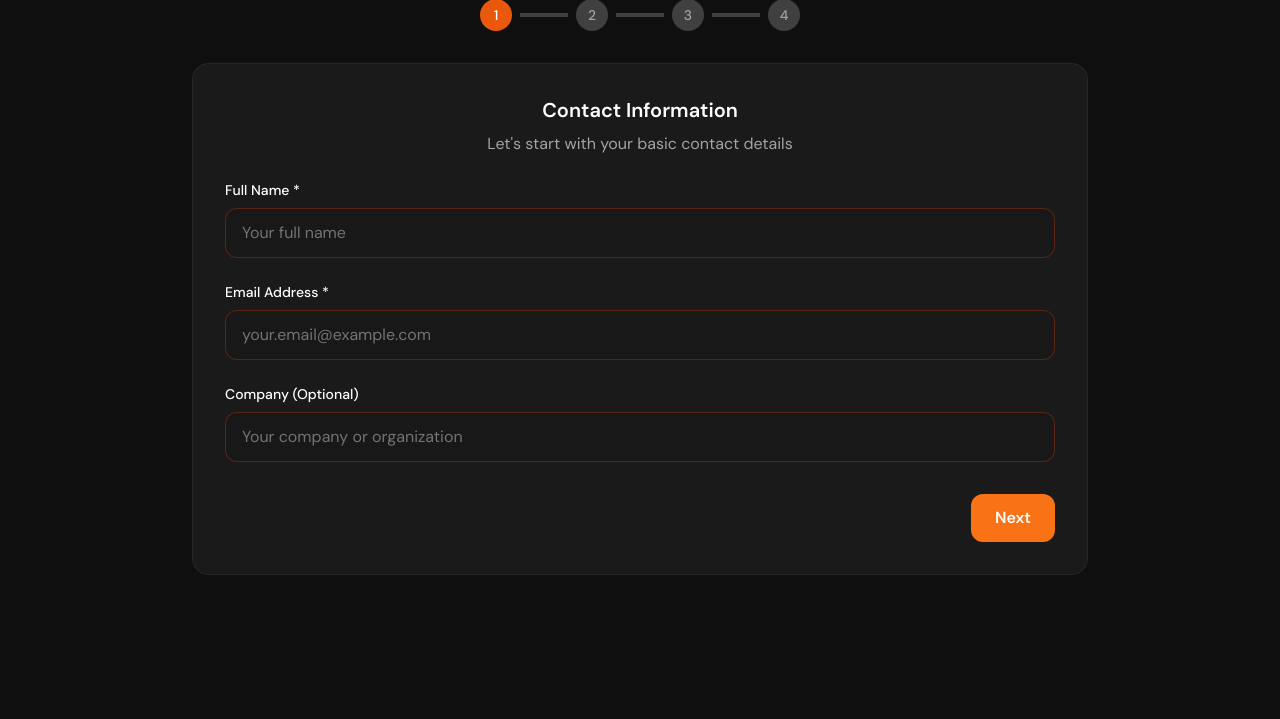
Scenario: ProjectInquiryForm - Simple Tests › allows going back to previous steps
Move to step 2
In the field labelled "Full Name *": (640, 233) [225,208,1055,258], type "John Doe"
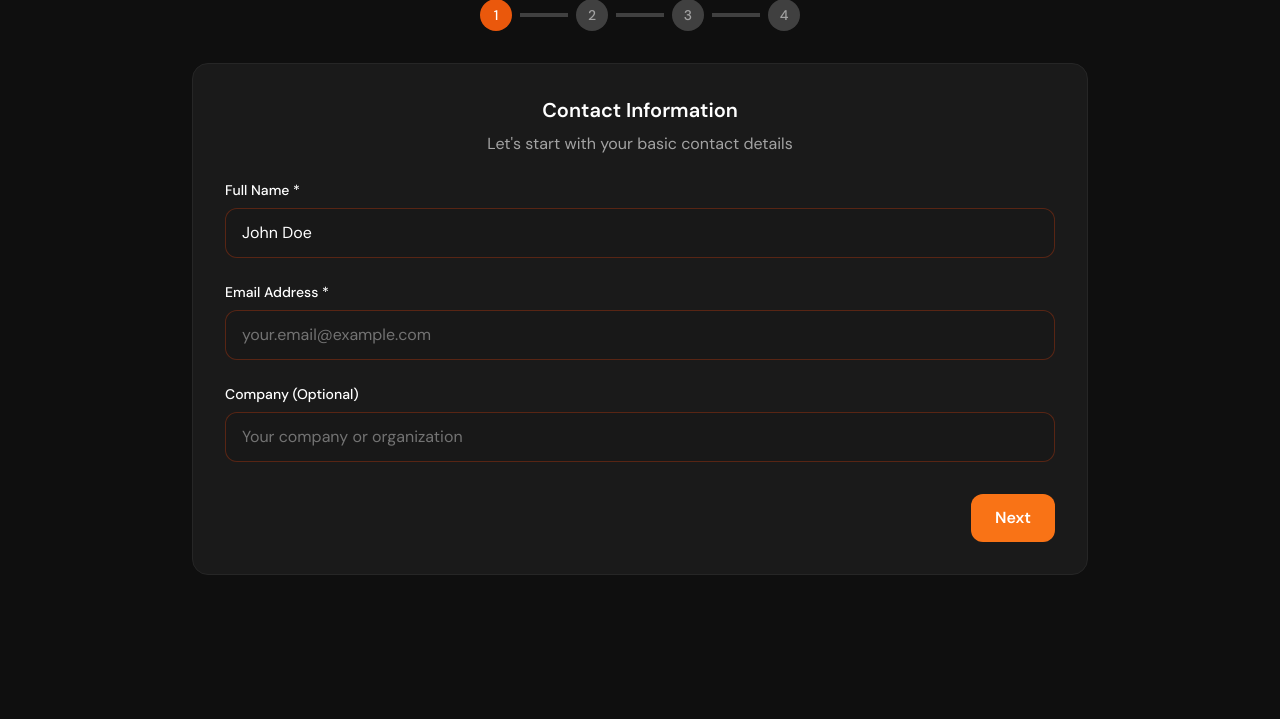
In the field labelled "Email Address *": (640, 335) [225,310,1055,360], type "john@example.com"
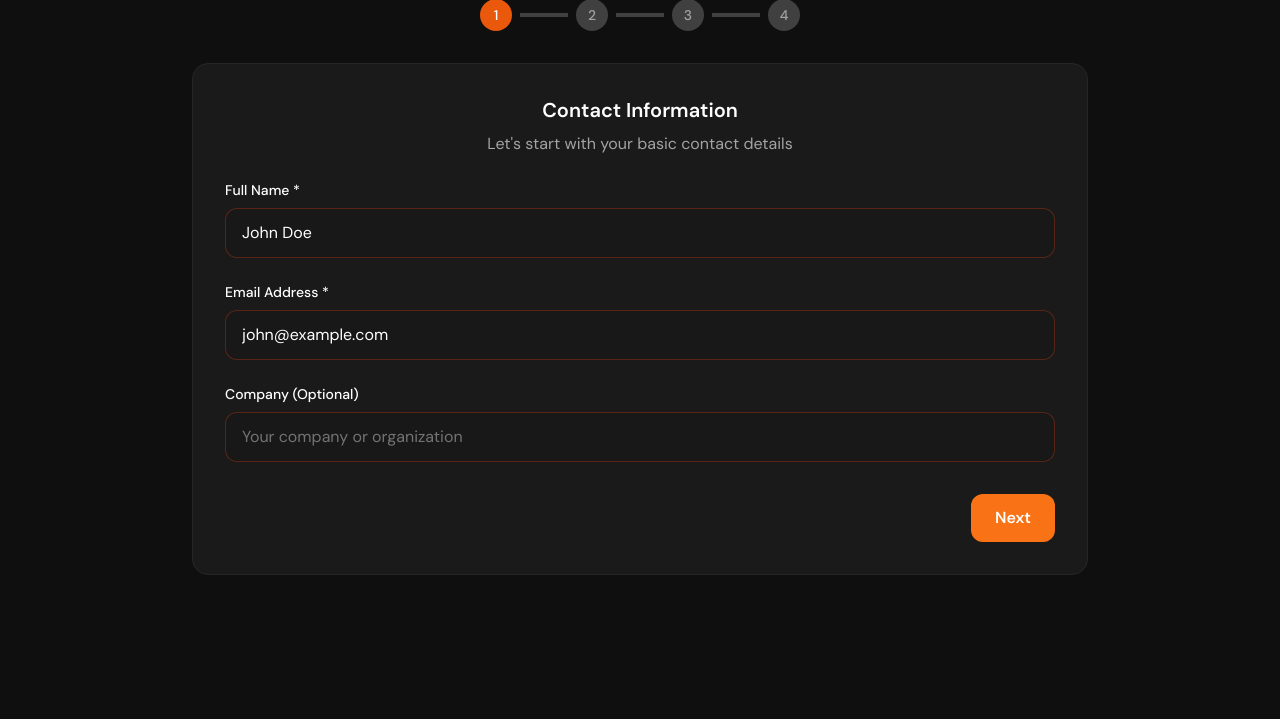
Click the button "Next": (1013, 518) [971,494,1055,542]
(page scrolled)
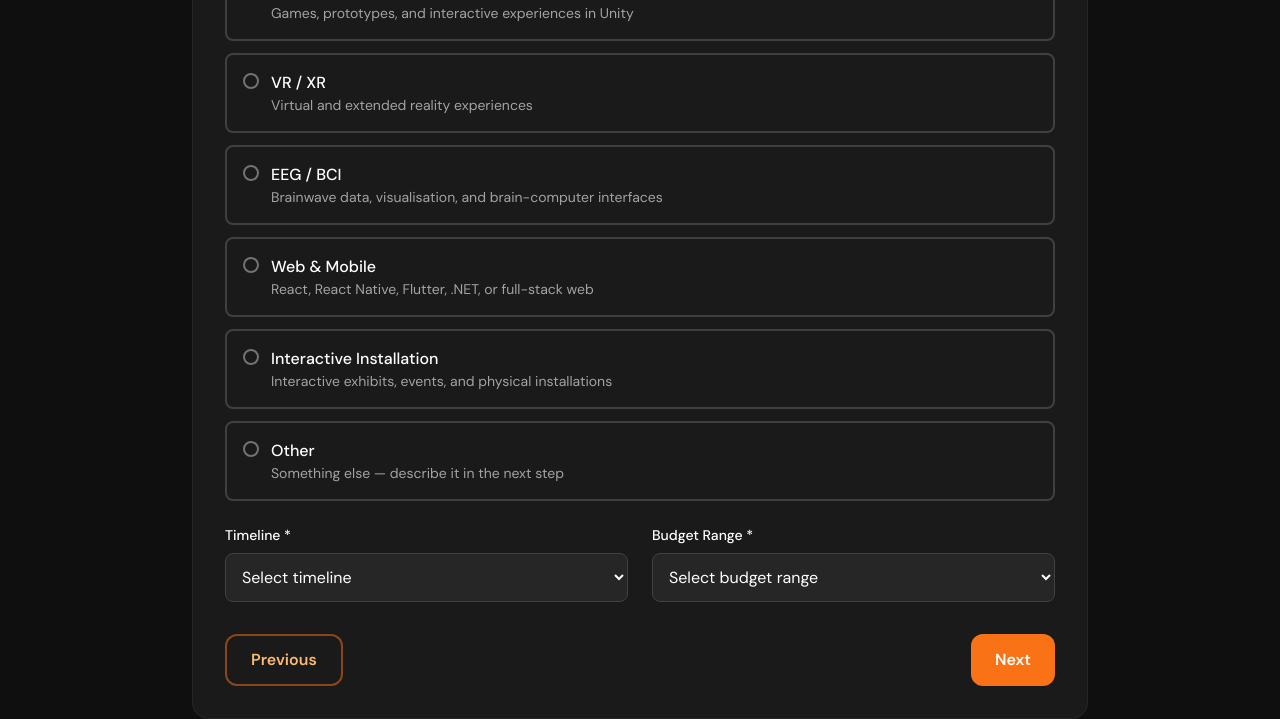
Go back to step 1
Click the button "Previous": (284, 660) [225,634,343,686]
(page scrolled)
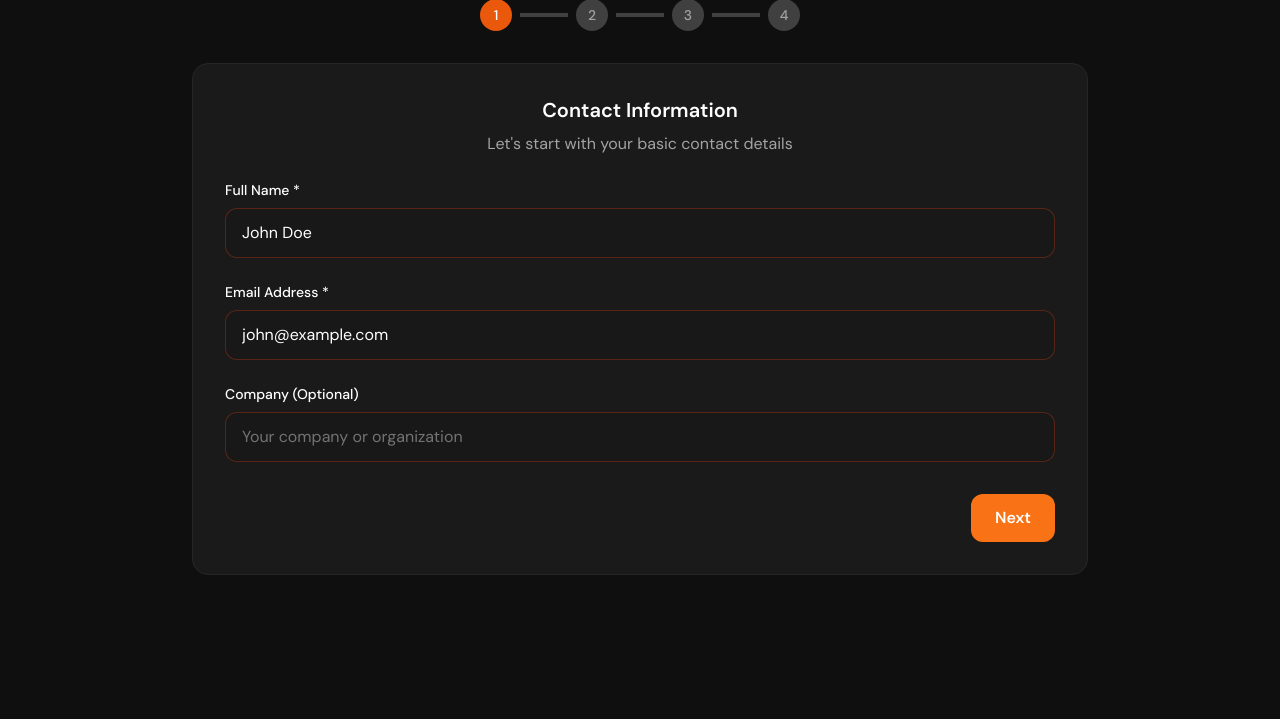
Expected: the heading "Contact Information" is shown, [542,97,738,123]
Expected: the field showing "John Doe" is shown, [225,208,1055,258]
